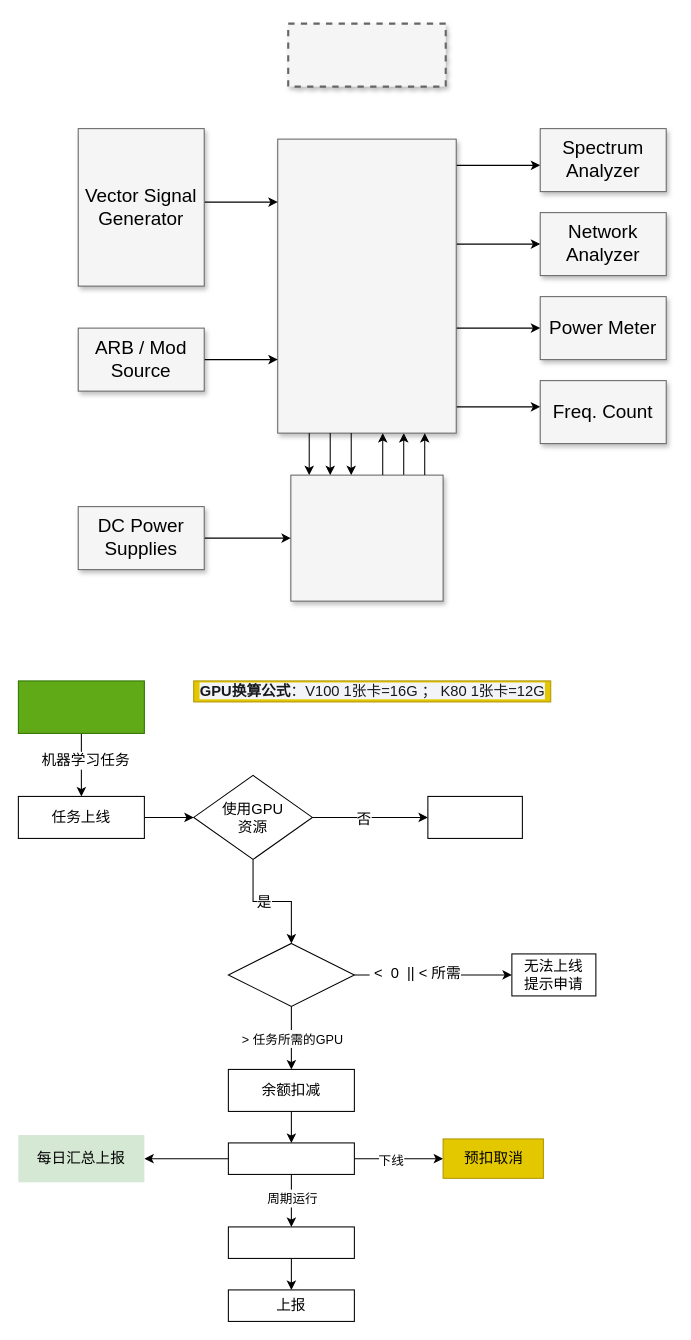
The diagram is 691 pixels wide and 1340 high, and some of its shapes have lost their labels. Here are the shapes that lost their labels. From the top down, the centre of each, then its label:
point (367, 56): 调度容器化
point (367, 287): Master
point (367, 539): DUT
point (80, 706): 调度GPU
point (474, 816): 上线完成
point (290, 974): 资产云 GPU 余额
point (290, 1158): 任务上线成功
point (290, 1242): 运行结束
